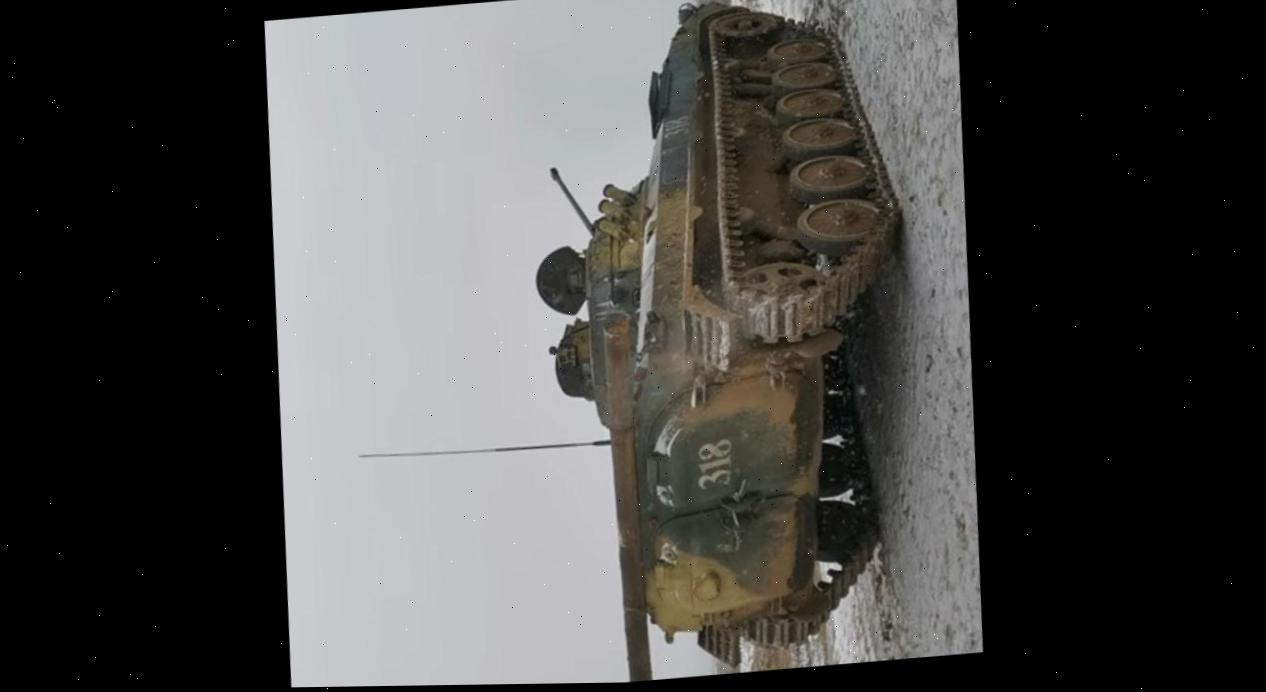tank: (503, 0, 917, 684)
